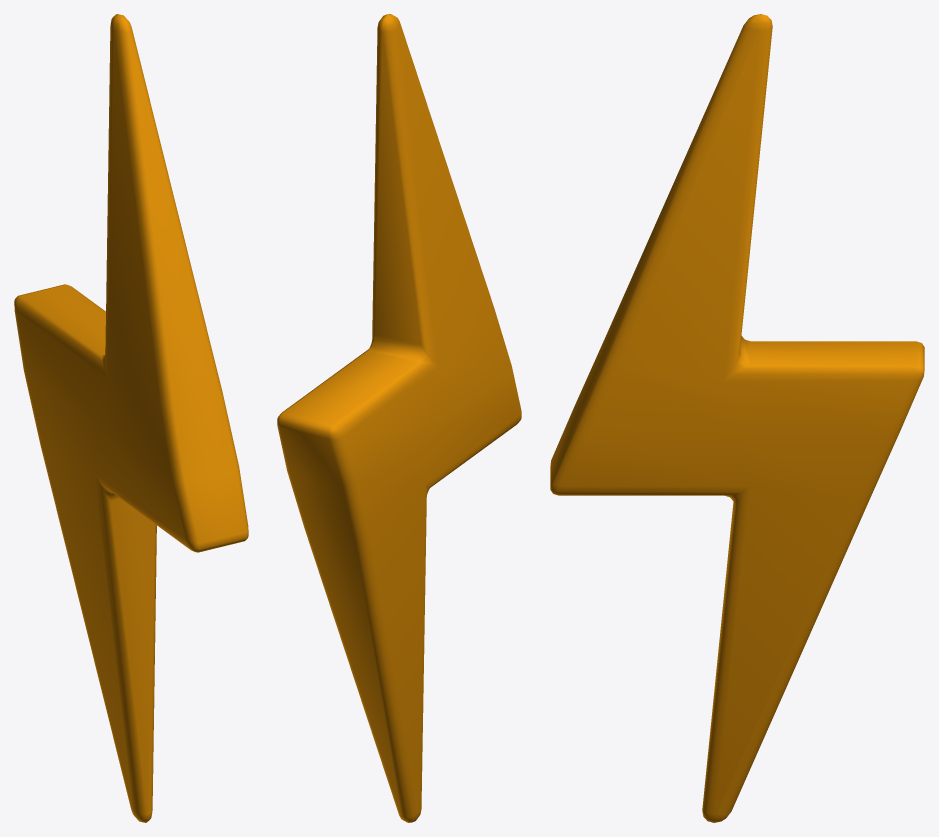
Rendered from lightning__low_poly.glb.
The picture shows the model from 3 angles, left to right: view 1: azimuth 30°, elevation 25°; view 2: azimuth 150°, elevation 25°; view 3: azimuth 270°, elevation 25°; orthographic projection. The views are drawn at different scales.
Parts seen in each view (by area): view 1: Cube.001; view 2: Cube.001; view 3: Cube.001.
Boxes of the visible parts, left/top/right/bottom form: Cube.001: left=14, top=14, right=248, bottom=822; Cube.001: left=277, top=14, right=521, bottom=822; Cube.001: left=550, top=14, right=924, bottom=822.
Size of the model in its own units: 1.06 by 12.36 by 5.18.
